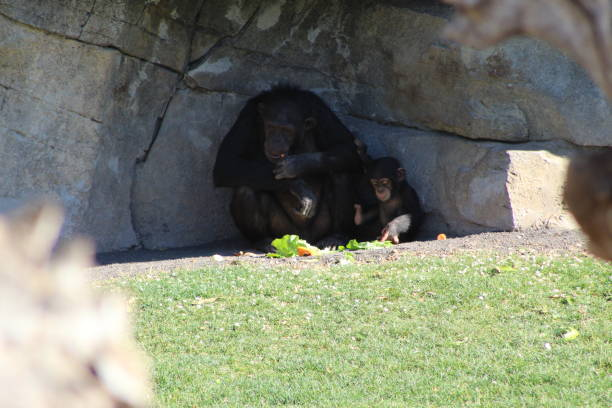chimpanzee: (247, 94, 321, 176), (360, 148, 414, 212)
